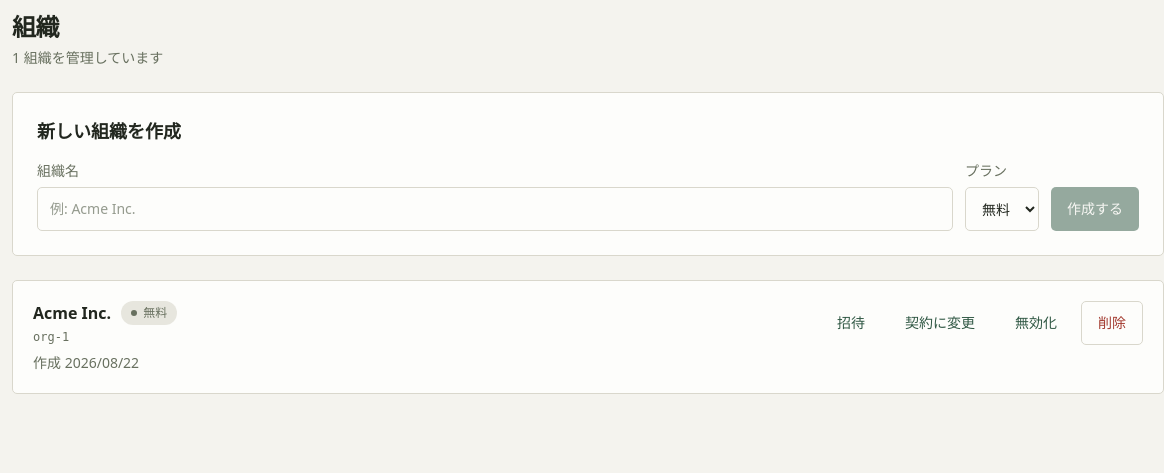
Test: Orgs › reports a failed direct disable operation
Expected: the text "Acme Inc." is shown, [33,301,111,325]
Click the button "無効化" at (1036,323), box [999,301,1073,345]
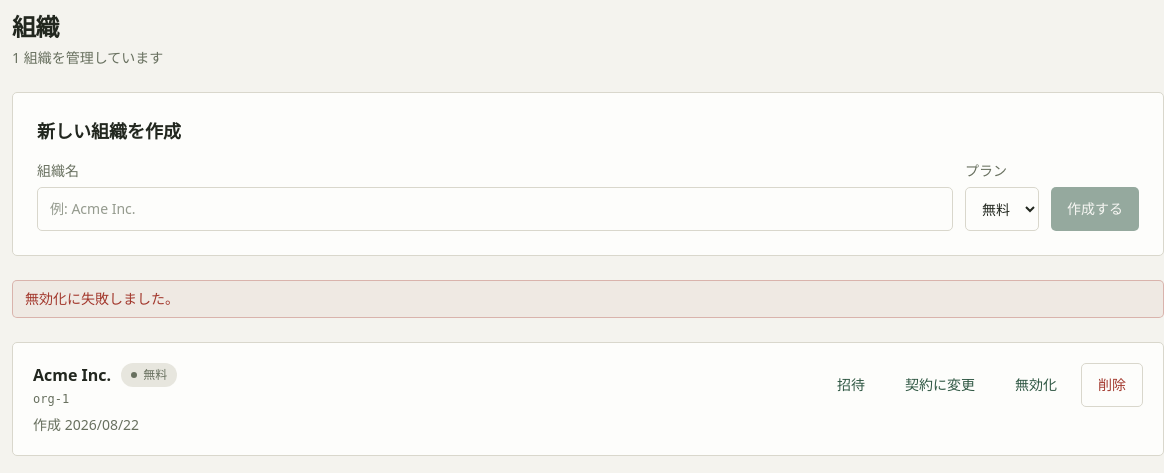
Expected: the message shows "無効化に失敗しました", [25,289,179,308]
